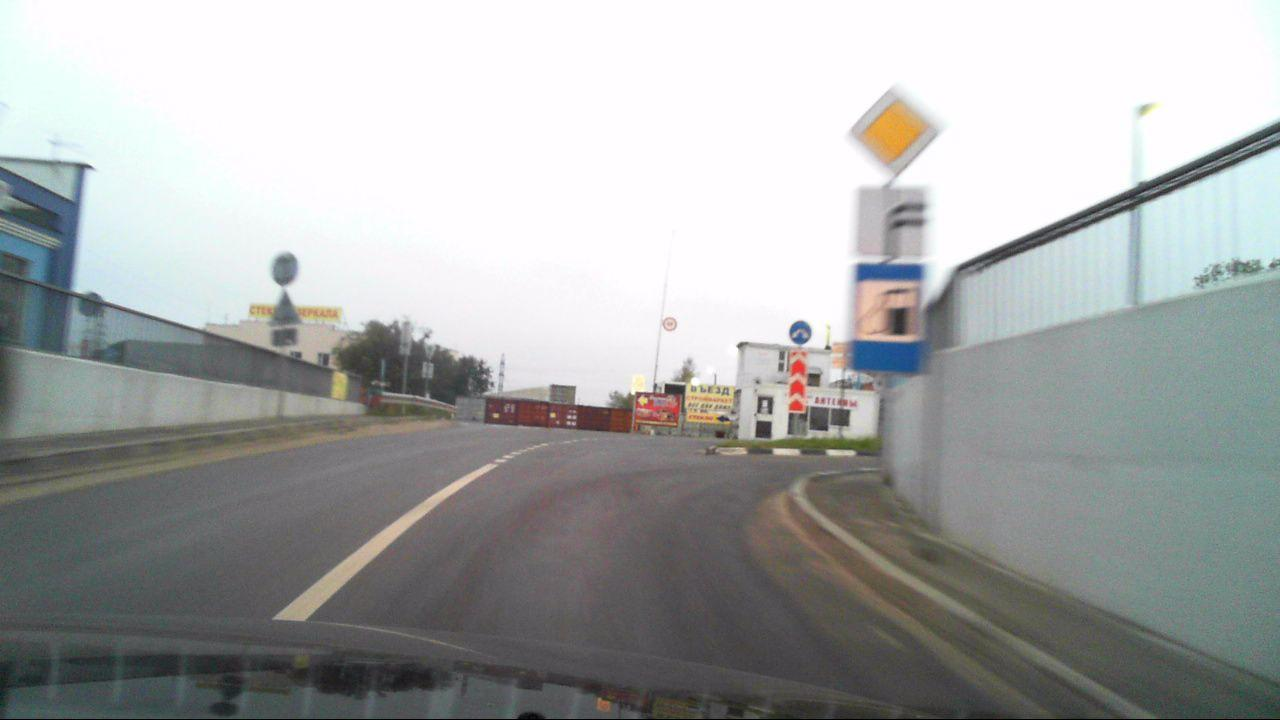road_sign: (844, 84, 941, 178), (848, 262, 923, 376), (857, 186, 925, 256), (786, 348, 809, 413), (789, 321, 812, 345)
